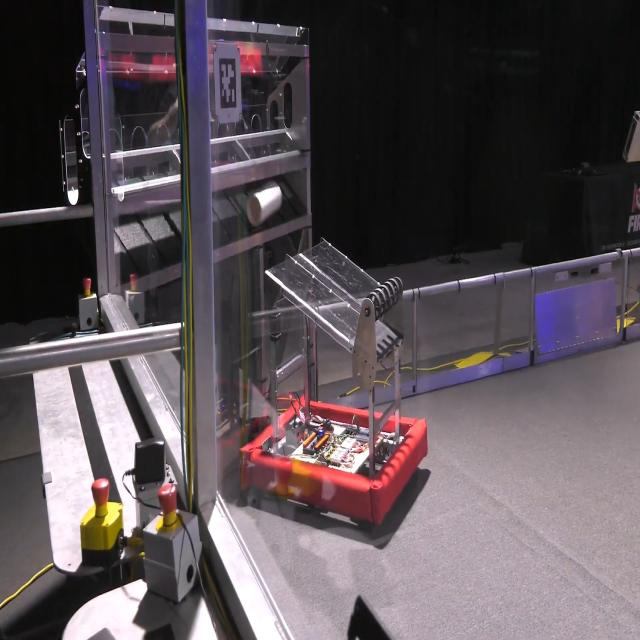Coral: (245, 182, 283, 226)
